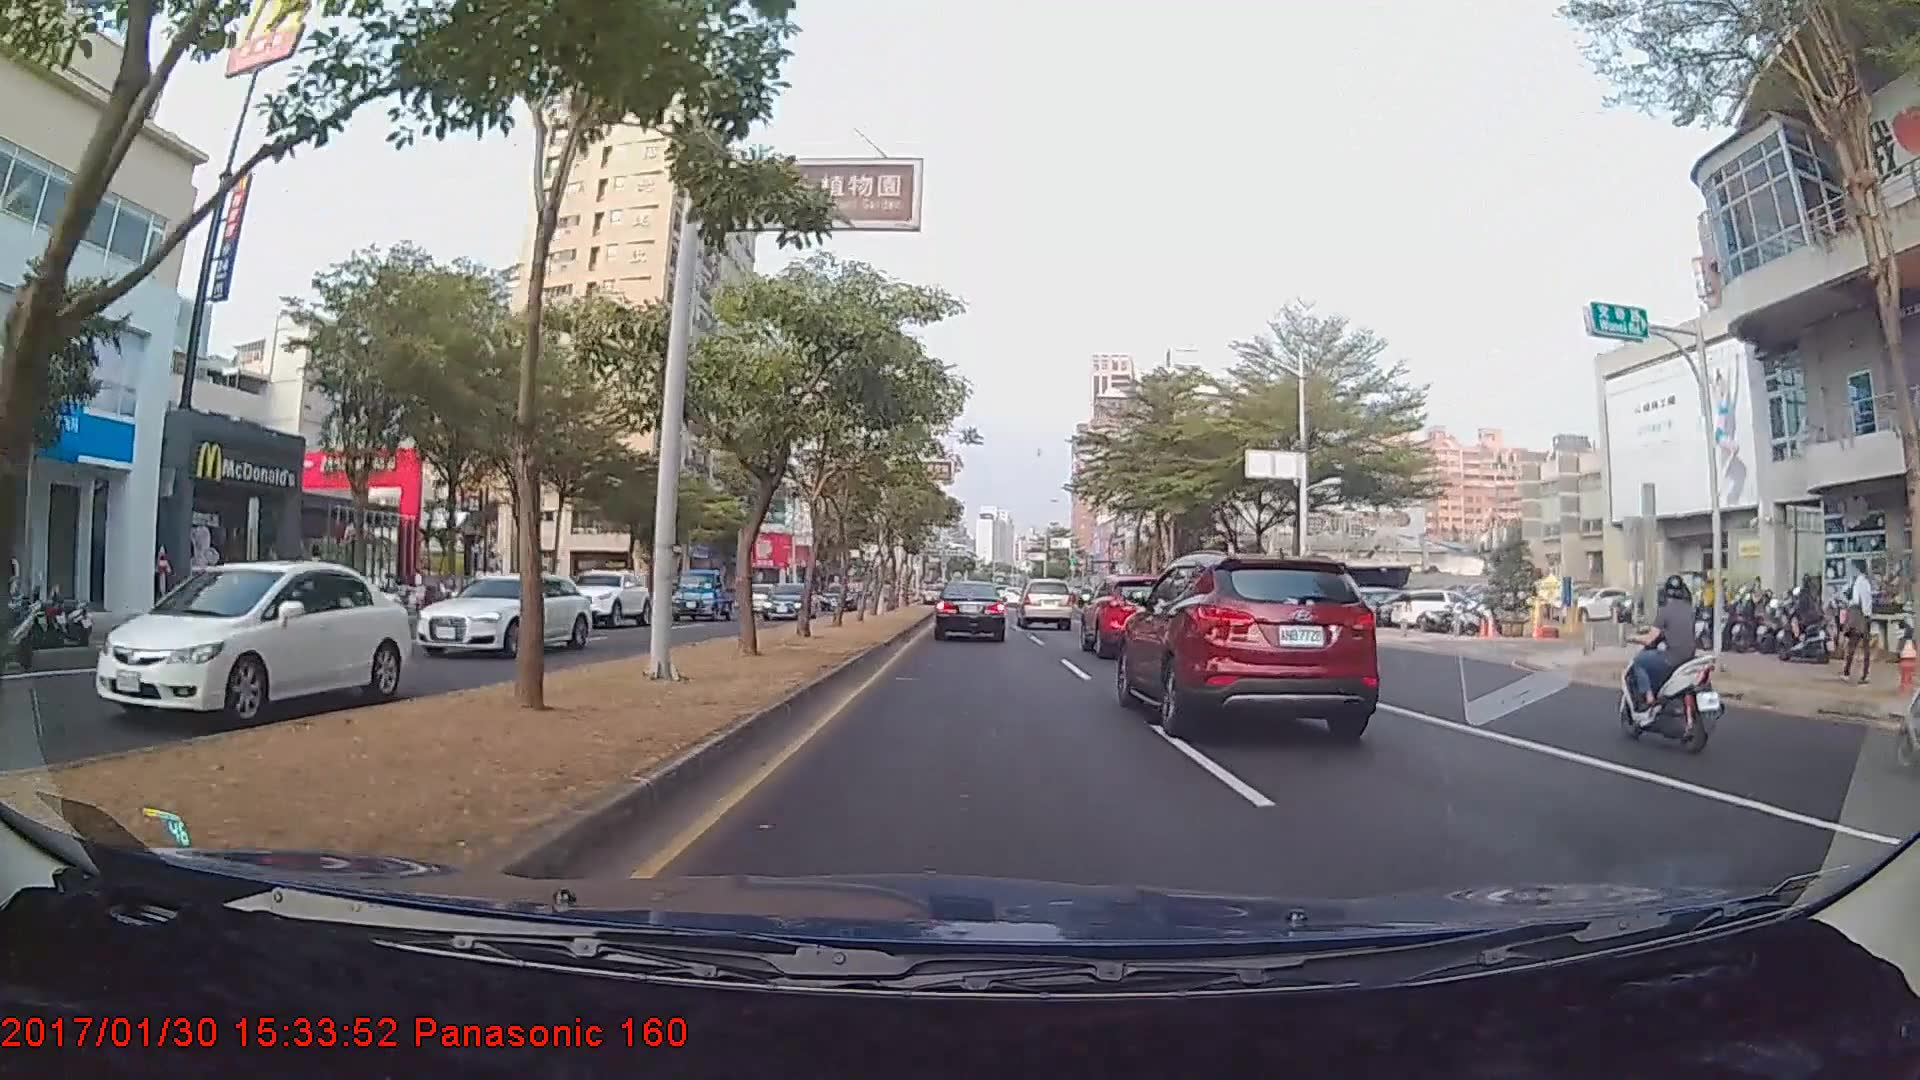pedestrian: (1844, 560, 1878, 680)
rider: (1604, 569, 1724, 754)
vehicle: (92, 559, 413, 726), (1123, 551, 1376, 729), (398, 574, 584, 660), (1080, 573, 1203, 659), (553, 569, 653, 627), (934, 579, 1007, 642), (673, 567, 735, 622), (1015, 578, 1074, 630), (761, 583, 815, 618), (817, 581, 859, 612)
